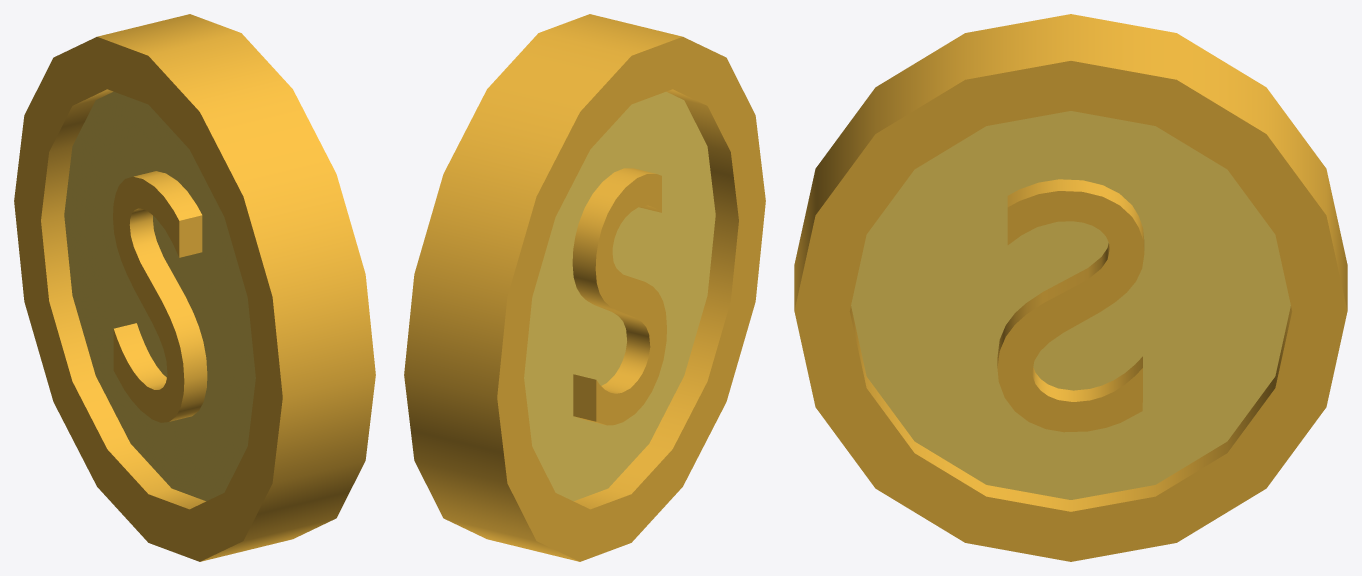
File: Coin.fbx
The picture shows the model from 3 angles, left to right: view 1: azimuth 30°, elevation 25°; view 2: azimuth 150°, elevation 25°; view 3: azimuth 270°, elevation 25°; orthographic projection. The views are drawn at different scales.
Visible parts, largest first — view 1: Coin; view 2: Coin; view 3: Coin.
Boxes of the visible parts, box(x1,y1,x2,y2) form: Coin: box(14, 14, 375, 561); Coin: box(404, 14, 765, 561); Coin: box(794, 14, 1347, 561).
Bounding box in the file's own units: 0.2614 × 1.31 × 1.31.
